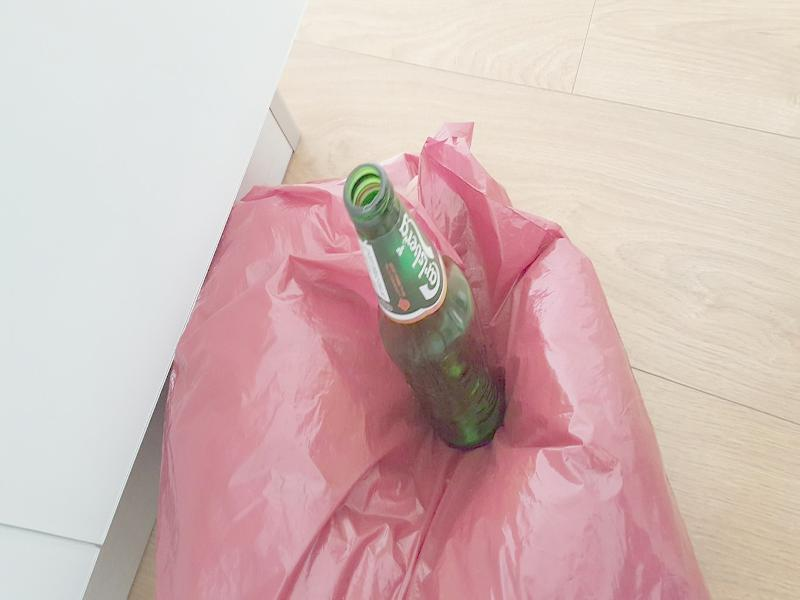Beer: (345, 161, 508, 445)
